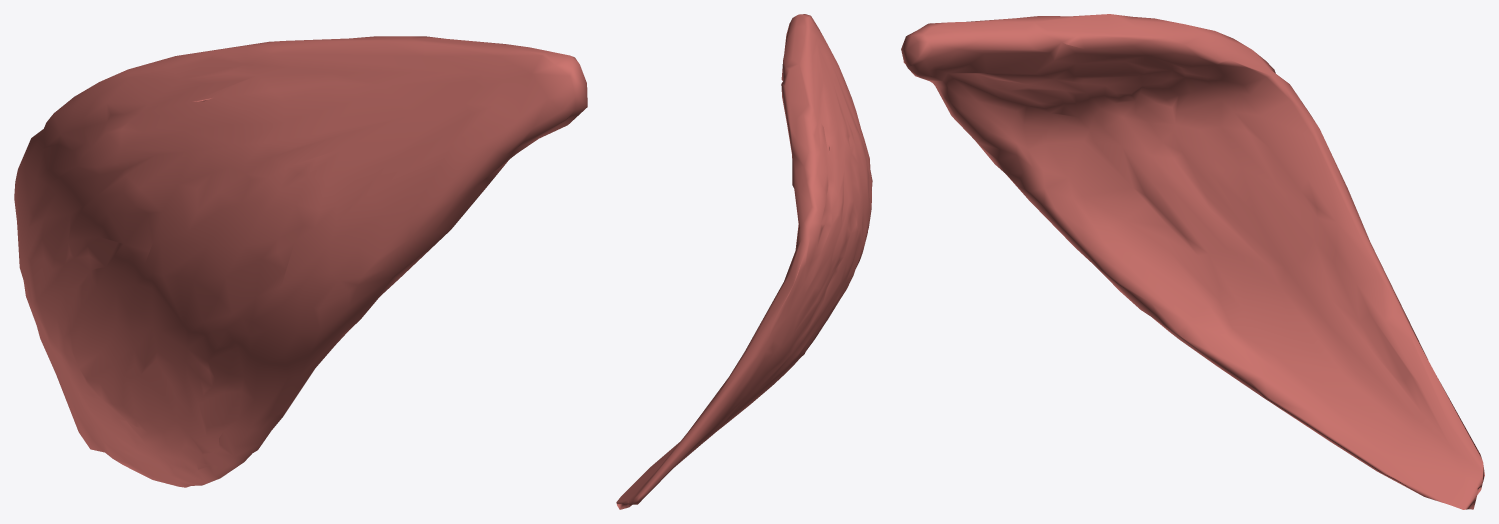
3 views of the same model, side by side, from view 1: azimuth 30°, elevation 25°; view 2: azimuth 150°, elevation 25°; view 3: azimuth 270°, elevation 25° (orthographic). The views are drawn at different scales.
Parts seen in each view (by area): view 1: 右侧环杓侧肌; view 2: 右侧环杓侧肌; view 3: 右侧环杓侧肌.
Part boxes in pixels (left/top/right/bottom): 右侧环杓侧肌: left=14, top=36, right=587, bottom=487; 右侧环杓侧肌: left=616, top=14, right=872, bottom=509; 右侧环杓侧肌: left=901, top=14, right=1484, bottom=509.
Size of the model in its own units: 0.00655 by 0.0147 by 0.0158.
